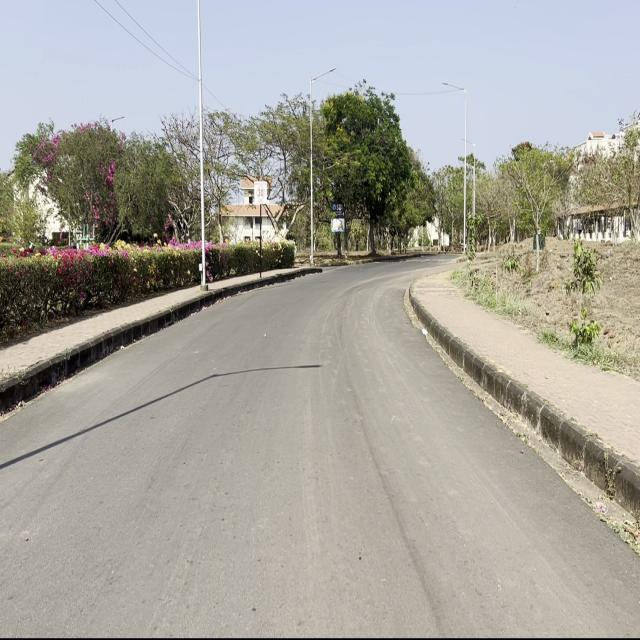Road: (3, 264, 635, 634)
